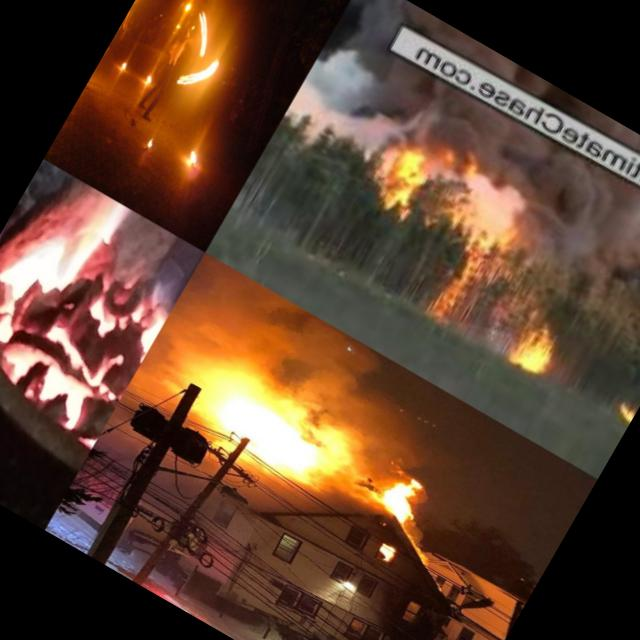fire: (0, 167, 205, 397), (333, 137, 534, 337), (163, 343, 356, 502), (495, 306, 575, 387), (164, 23, 238, 109), (374, 468, 444, 536), (606, 389, 640, 427), (177, 138, 208, 178), (141, 134, 158, 154), (118, 56, 134, 76), (140, 72, 154, 90)
smoke: (162, 254, 468, 481), (407, 82, 640, 305), (278, 24, 438, 185), (511, 210, 627, 304)
